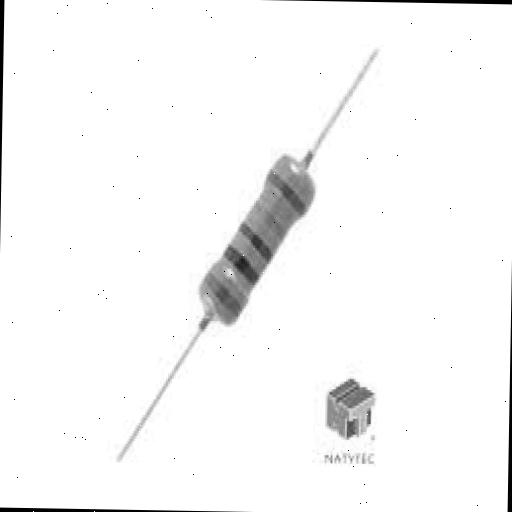RESISTOR: (119, 142, 349, 350)
